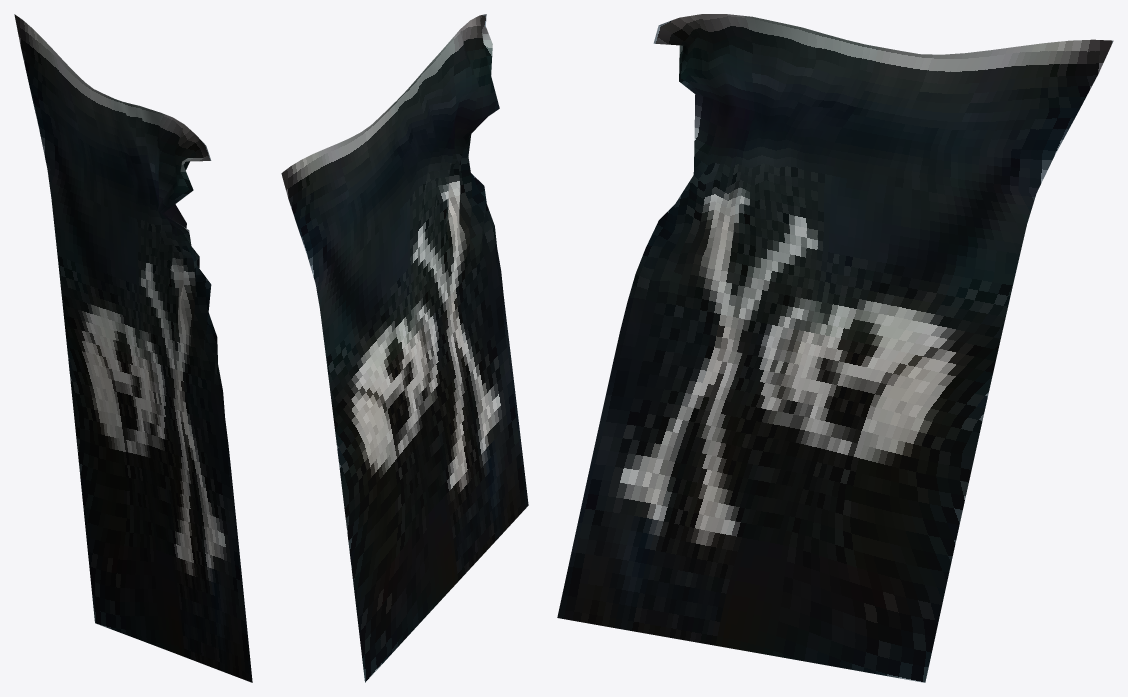
Rendered from Flag.dae.
3 renders of one model, left to right at view 1: azimuth 30°, elevation 25°; view 2: azimuth 150°, elevation 25°; view 3: azimuth 270°, elevation 25°, orthographic. The views are drawn at different scales.
Parts seen in each view (by area): view 1: Plane.008; view 2: Plane.008; view 3: Plane.008.
Part boxes in pixels (x1,y1,x2,y2): Plane.008: (14, 14, 252, 682); Plane.008: (281, 14, 528, 682); Plane.008: (557, 14, 1113, 682).
Size of the model in its own units: 0.1079 by 1.07 by 1.41.
Materials: 1 (1 with a texture image).
